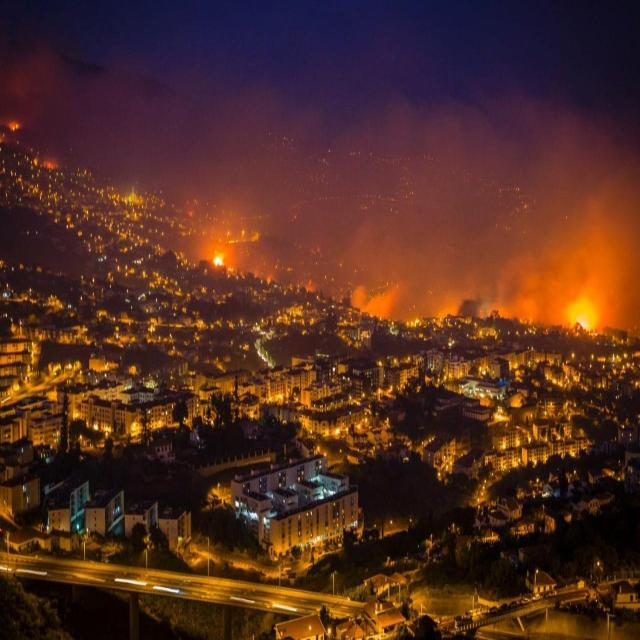Fire: (572, 309, 602, 342), (209, 245, 230, 272)
Smoke: (6, 14, 636, 321)
